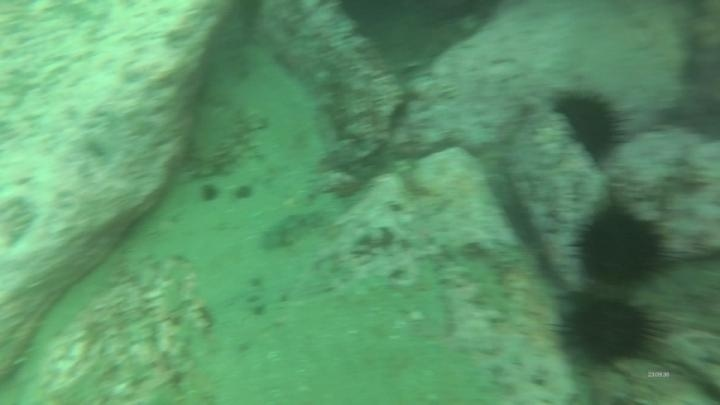echinus: (570, 199, 671, 292), (557, 294, 663, 369), (550, 85, 631, 166)
holothurian: (257, 205, 330, 255)
